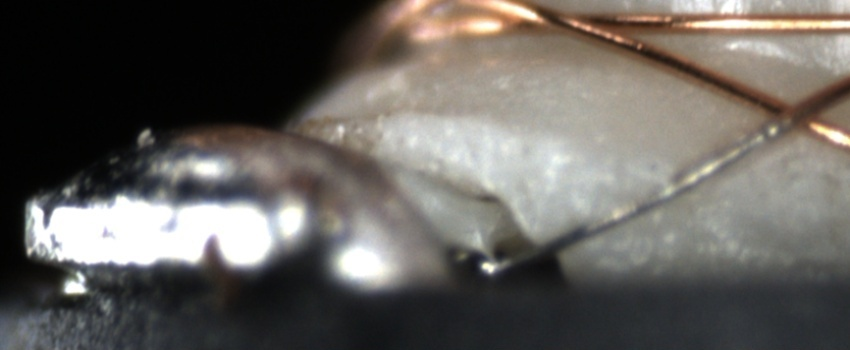CL: (752, 79, 842, 145)
TS: (484, 115, 793, 276)
TTCW: (490, 83, 828, 282)
